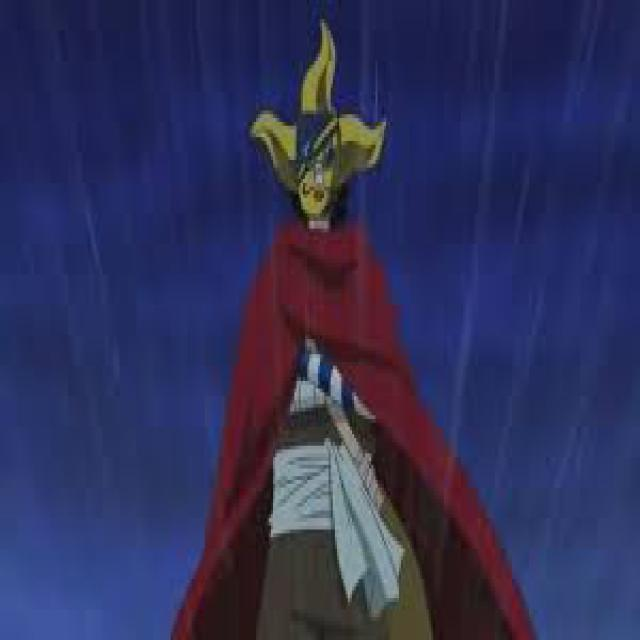Usopp: (171, 23, 538, 640)
